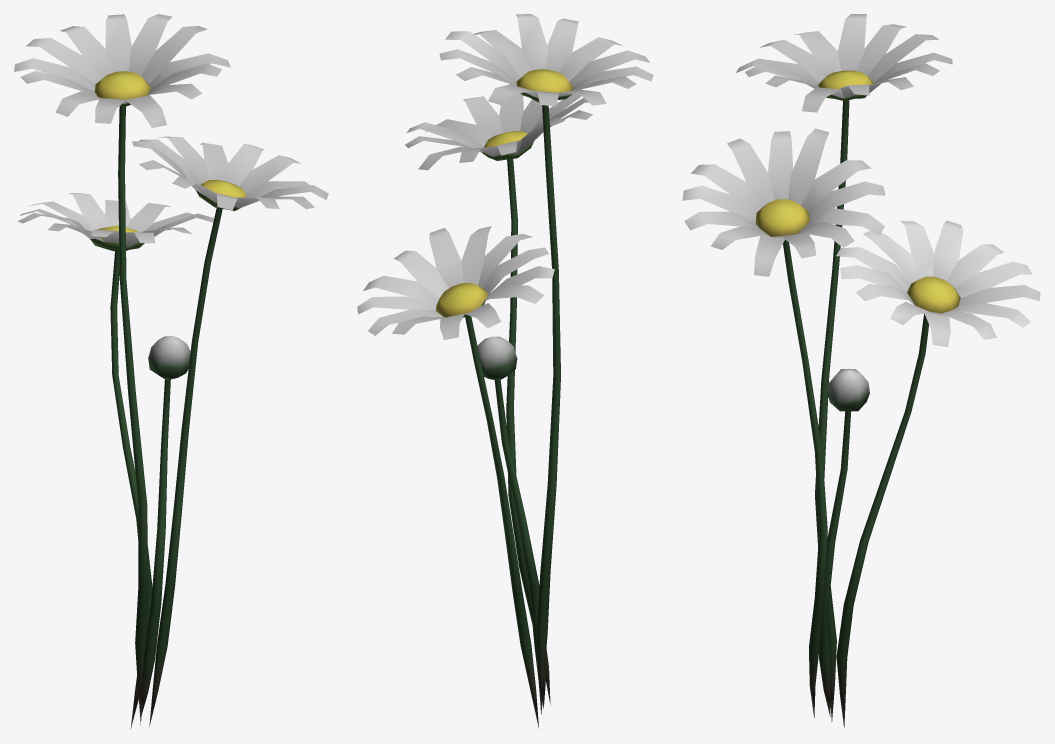
Rendered from plants-flowers-daisy_v4.glb.
The picture shows the model from 3 angles, left to right: view 1: azimuth 30°, elevation 25°; view 2: azimuth 150°, elevation 25°; view 3: azimuth 270°, elevation 25°; orthographic projection.
Parts seen in each view (by area): view 1: Daisy_v4; view 2: Daisy_v4; view 3: Daisy_v4.
Boxes of the visible parts, x1=… form: Daisy_v4: x1=14, y1=14, x2=328, y2=728; Daisy_v4: x1=357, y1=14, x2=653, y2=728; Daisy_v4: x1=682, y1=14, x2=1040, y2=727.
Bounding box in the file's own units: 0.1945 × 0.5 × 0.2396.
